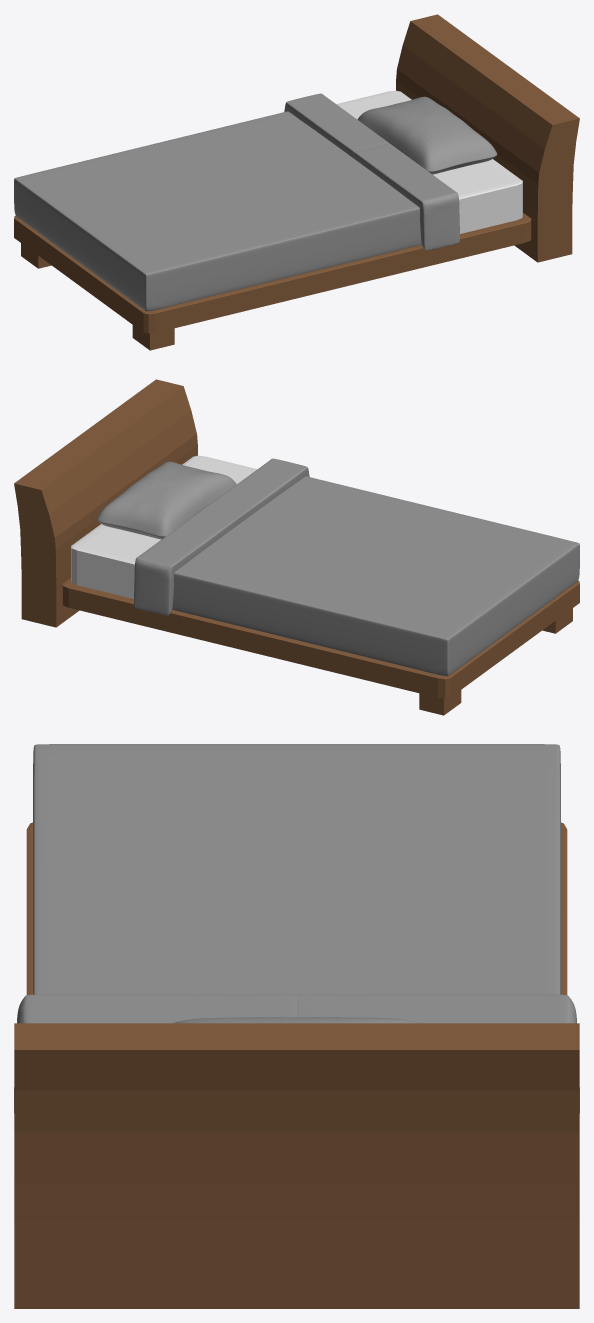
File: bed.gltf
3 renders of one model, top to bottom at view 1: azimuth 30°, elevation 25°; view 2: azimuth 150°, elevation 25°; view 3: azimuth 270°, elevation 25°, orthographic. The views are drawn at different scales.
Visible parts, largest first — view 1: bed cloth, bed front, bed bottom, bed cloth.001, pillow, mattress, bed leg; view 2: bed cloth, bed front, bed bottom, bed cloth.001, pillow, mattress, bed leg; view 3: bed front, bed cloth, bed cloth.001, bed bottom, pillow.
Part boxes in pixels (x1,y1,x2,y2): bed cloth: (14, 111, 421, 311); bed front: (396, 14, 579, 262); bed bottom: (14, 213, 531, 333); bed cloth.001: (284, 93, 459, 250); pillow: (357, 96, 497, 174); mattress: (337, 90, 522, 233); bed leg: (21, 243, 174, 350); bed cloth: (172, 476, 579, 676); bed front: (14, 379, 197, 627); bed bottom: (62, 578, 579, 698); bed cloth.001: (134, 458, 309, 615); pillow: (96, 461, 236, 539); mattress: (71, 455, 256, 598); bed leg: (419, 608, 572, 715); bed front: (14, 1023, 579, 1308); bed cloth: (33, 744, 560, 994); bed cloth.001: (14, 994, 579, 1112); bed bottom: (26, 822, 567, 994); pillow: (173, 1017, 419, 1023).
Bounding box in the file's own units: 9.1 × 2.71 × 5.21.
